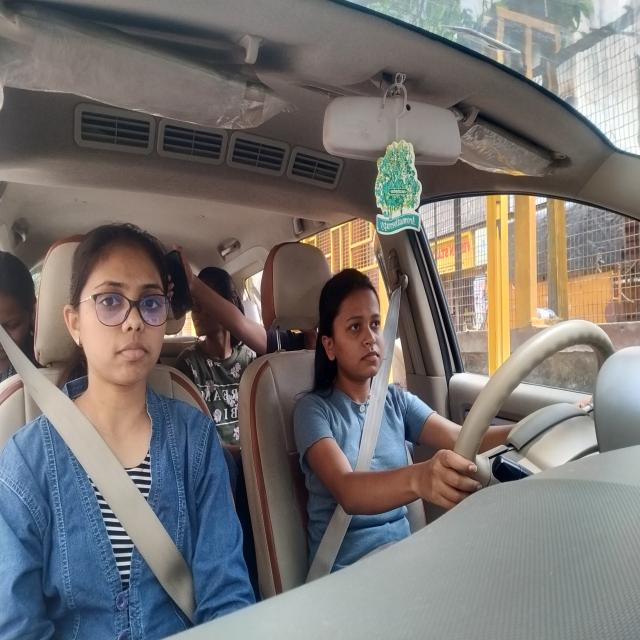person: (60, 217, 176, 386), (322, 278, 388, 388), (0, 250, 43, 376), (192, 252, 236, 342)
